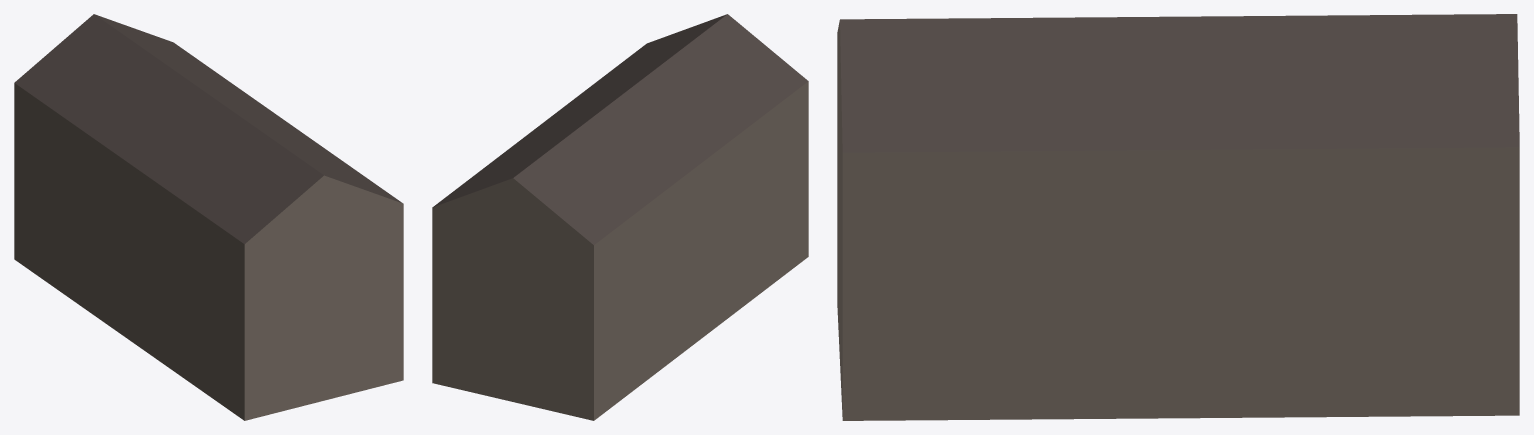
3 views of the same model, side by side, from view 1: azimuth 30°, elevation 25°; view 2: azimuth 150°, elevation 25°; view 3: azimuth 270°, elevation 25° (orthographic). The views are drawn at different scales.
Visible parts, largest first — view 1: HP-w858824285; view 2: HP-w858824285; view 3: HP-w858824285.
Boxes of the visible parts, bbox=[...] form: HP-w858824285: bbox=[14, 14, 403, 420]; HP-w858824285: bbox=[432, 14, 808, 420]; HP-w858824285: bbox=[837, 14, 1519, 420].
Size of the model in its own units: 5.97 by 7.65 by 13.84.
